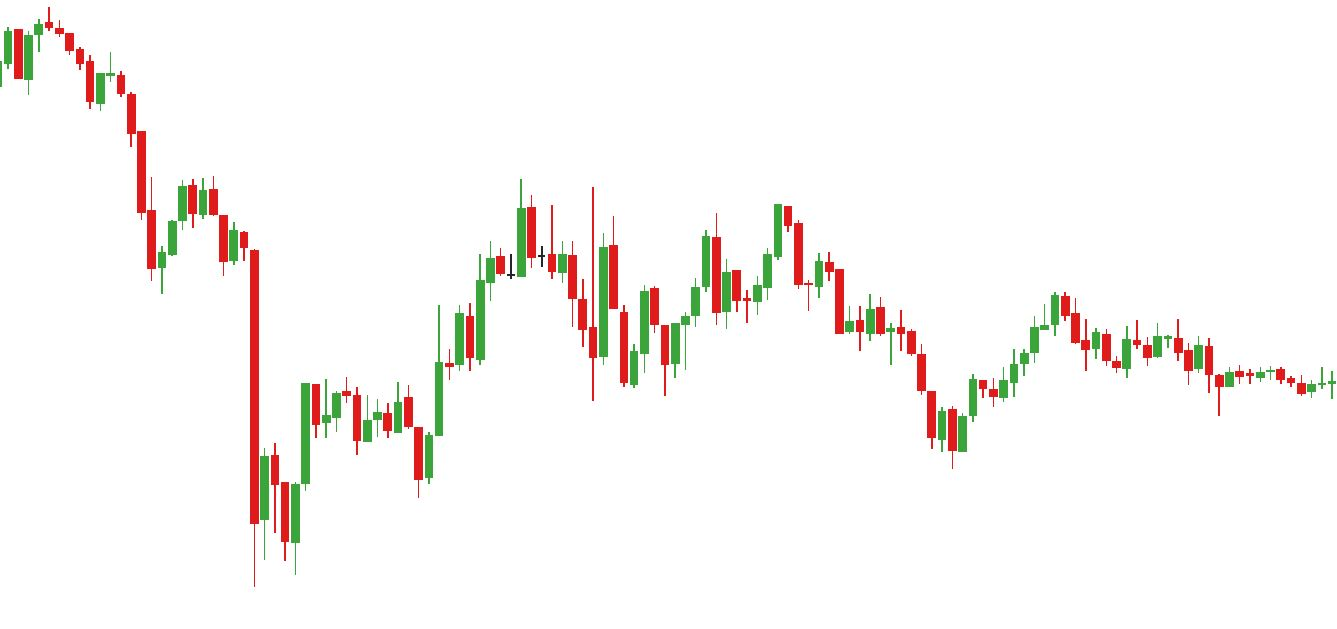buy: (463, 282, 609, 406), (354, 400, 434, 495)
sell: (702, 205, 793, 279)
